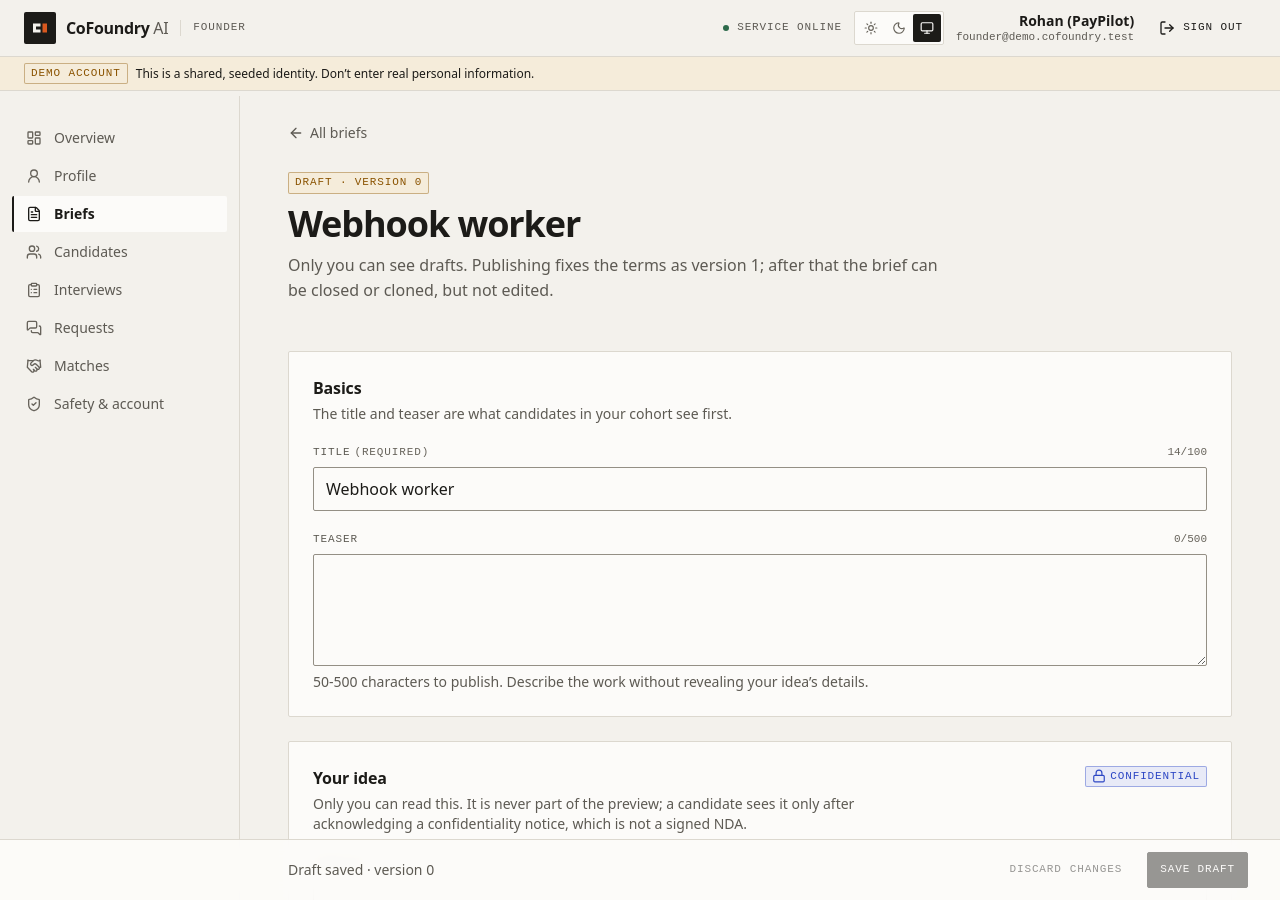
Test: draft editor › explains a version conflict and offers to reload
This screenshot has width=1280, height=900.
Type "x" into the text box labelled "Teaser". click: {"x": 760, "y": 610}
box: [313, 554, 1207, 666]
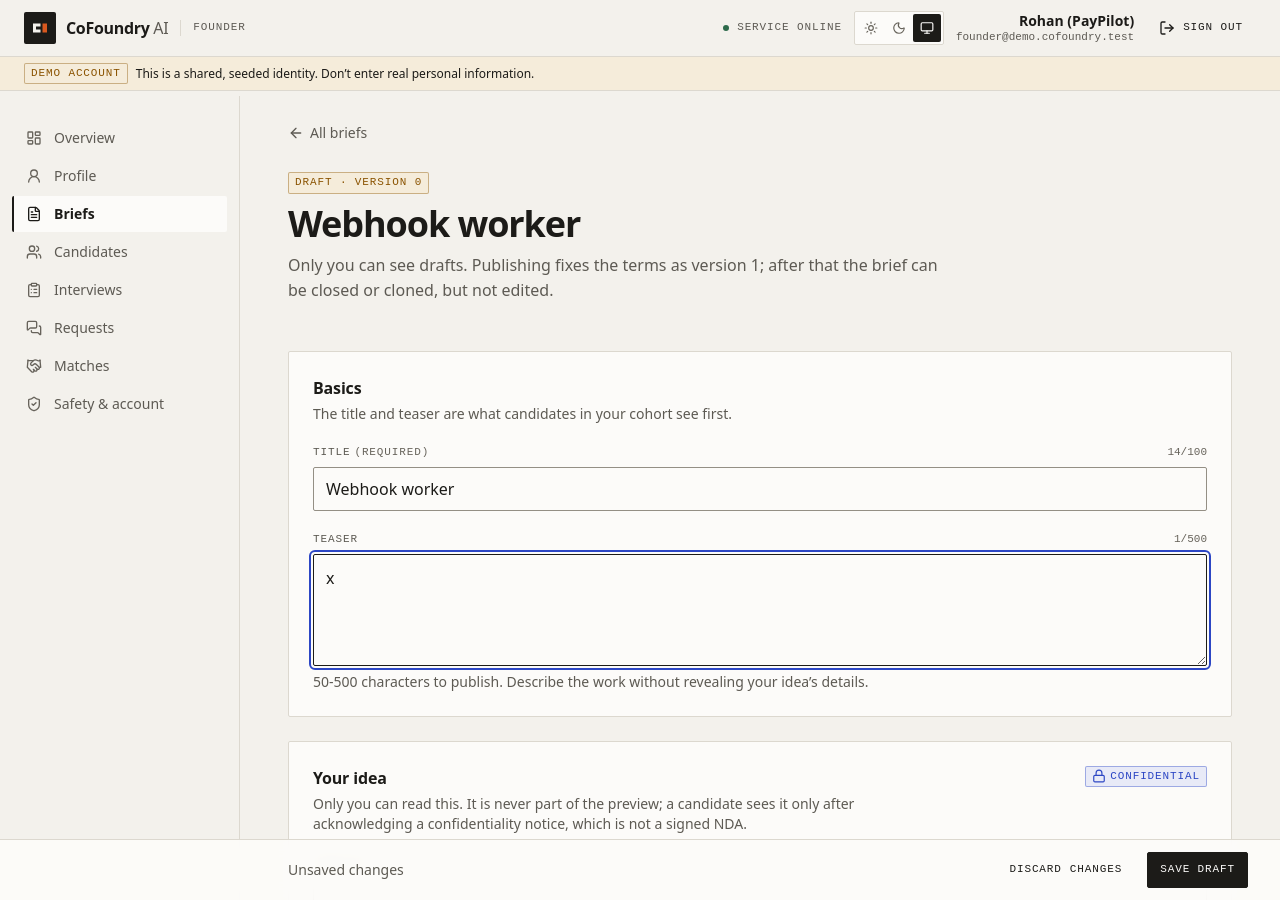
Click the button "Save draft". click: {"x": 1198, "y": 870}
box: [1147, 852, 1248, 888]
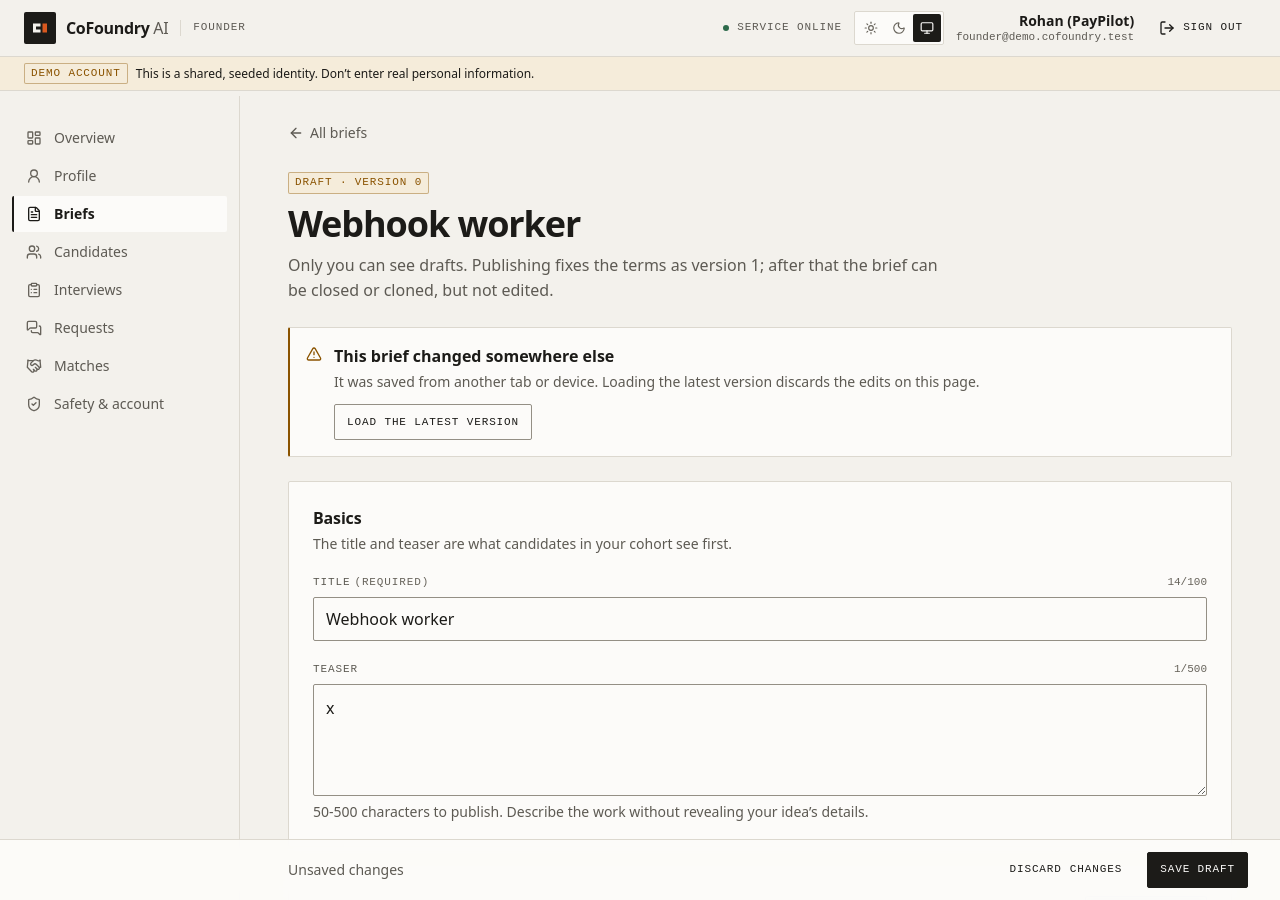
expect the text "This brief changed somewhere else" is shown: met, box [334, 345, 614, 367]
expect the button "Load the latest version" is shown: met, box [334, 404, 532, 440]
